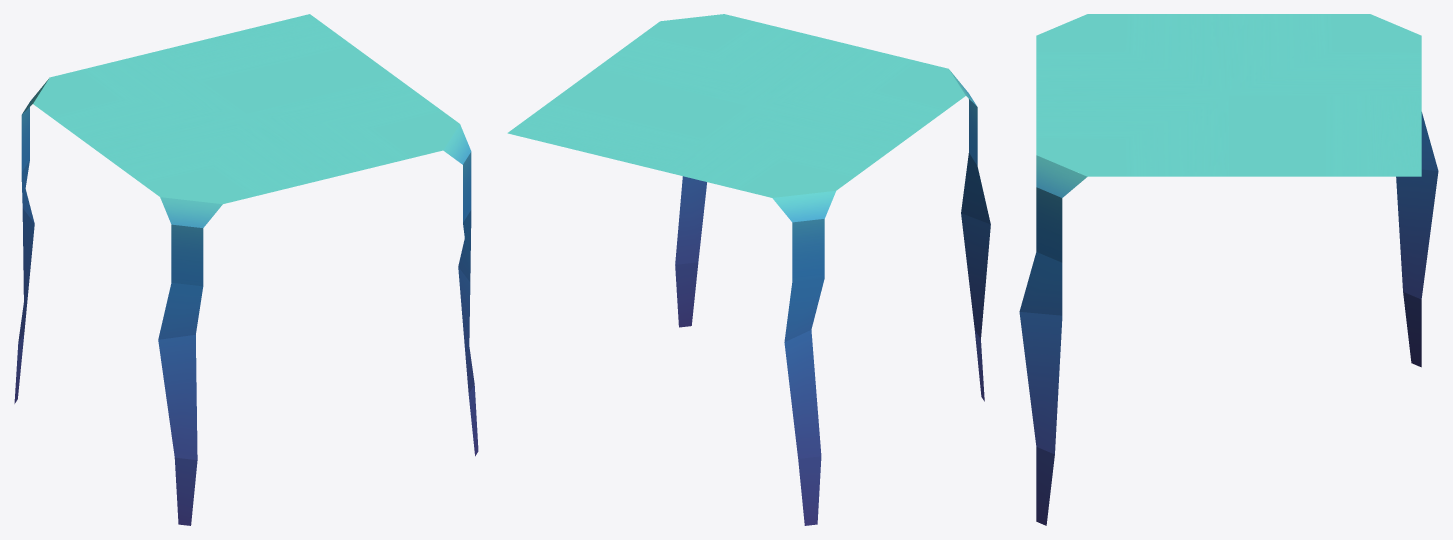
3 renders of one model, left to right at view 1: azimuth 30°, elevation 25°; view 2: azimuth 150°, elevation 25°; view 3: azimuth 270°, elevation 25°, orthographic. The views are drawn at different scales.
Visible parts, largest first — view 1: TopNoWalls.015, TopInnerCorner.014, TopInnerCorner.011, TopInnerCorner.013, InnerCorner.015, InnerCorner.014, InnerCorner.007; view 2: TopNoWalls.015, TopInnerCorner.011, TopInnerCorner.013, TopInnerCorner.014, InnerCorner.007, InnerCorner.015, InnerCorner.014; view 3: TopNoWalls.015, TopInnerCorner.011, TopInnerCorner.014, TopInnerCorner.013, InnerCorner.014, InnerCorner.007.
Part boxes in pixels (bbox=[...]): TopNoWalls.015: bbox=[160, 14, 395, 113]; TopInnerCorner.014: bbox=[97, 114, 332, 204]; TopInnerCorner.011: bbox=[33, 50, 245, 150]; TopInnerCorner.013: bbox=[247, 77, 459, 177]; InnerCorner.015: bbox=[158, 197, 222, 525]; InnerCorner.014: bbox=[443, 124, 478, 456]; InnerCorner.007: bbox=[14, 79, 48, 403]; TopNoWalls.015: bbox=[507, 68, 747, 170]; TopInnerCorner.011: bbox=[660, 106, 900, 197]; TopInnerCorner.013: bbox=[596, 14, 835, 105]; TopInnerCorner.014: bbox=[749, 41, 965, 142]; InnerCorner.007: bbox=[772, 191, 835, 525]; InnerCorner.015: bbox=[950, 70, 990, 401]; InnerCorner.014: bbox=[675, 176, 706, 327]; TopNoWalls.015: bbox=[1229, 95, 1421, 176]; TopInnerCorner.011: bbox=[1229, 14, 1421, 95]; TopInnerCorner.014: bbox=[1036, 14, 1228, 95]; TopInnerCorner.013: bbox=[1036, 95, 1228, 176]; InnerCorner.014: bbox=[1019, 155, 1087, 525]; InnerCorner.007: bbox=[1396, 112, 1438, 367].
Size of the model in its own units: 104 by 100 by 109.
